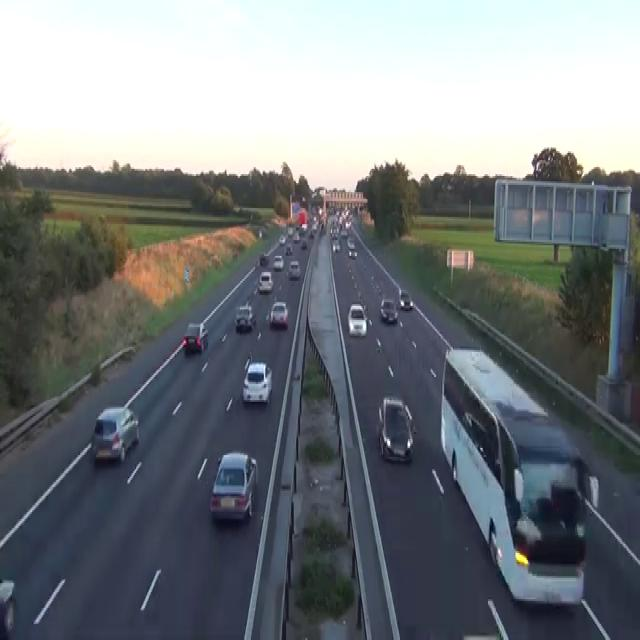Car: (209, 450, 258, 522), (91, 406, 139, 462), (377, 395, 414, 462), (242, 361, 272, 403), (0, 576, 16, 638), (182, 322, 208, 354), (347, 302, 367, 336), (234, 302, 255, 331), (269, 301, 288, 327), (379, 297, 398, 322), (257, 270, 273, 294), (398, 290, 413, 309), (287, 260, 300, 279), (346, 236, 357, 258), (273, 254, 283, 270), (259, 251, 268, 265), (346, 236, 355, 249), (375, 336, 381, 354), (348, 247, 357, 258), (332, 240, 340, 252), (285, 244, 293, 254), (300, 238, 307, 249), (293, 231, 300, 242), (278, 233, 285, 243), (233, 204, 240, 213), (287, 226, 293, 236), (345, 219, 351, 229), (301, 222, 307, 231), (311, 222, 317, 231), (340, 230, 347, 237), (258, 228, 262, 238), (309, 230, 314, 238), (295, 222, 300, 230)
Truck: (439, 347, 598, 608)
